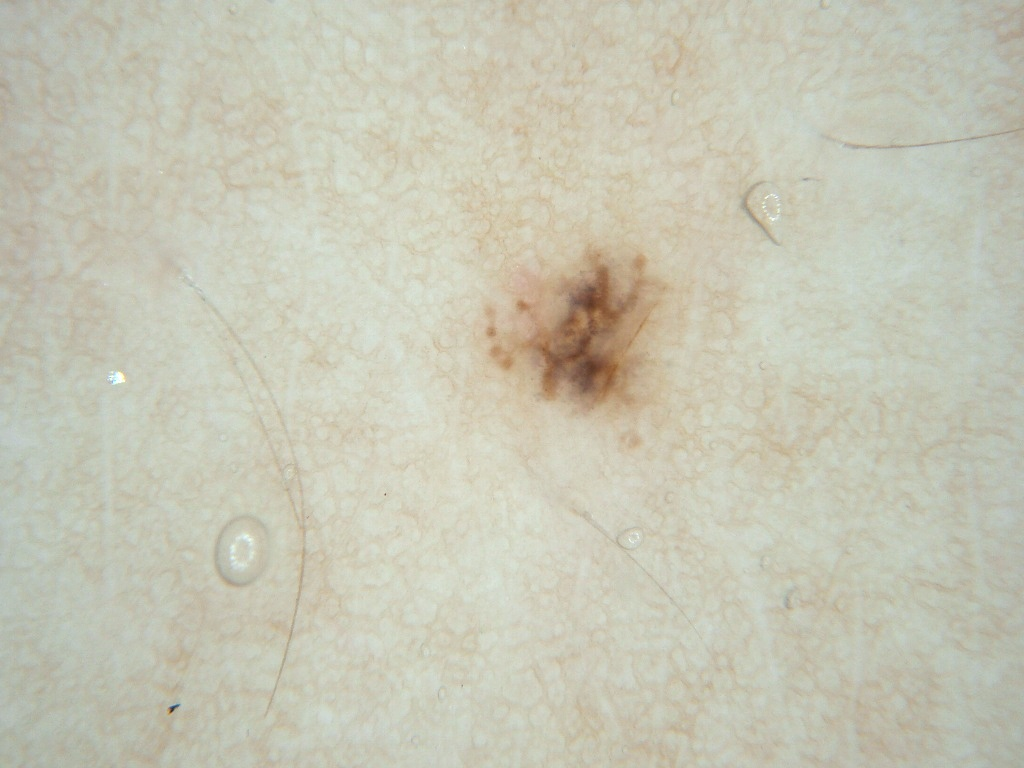Detected Lesion: (485, 245, 676, 414)
